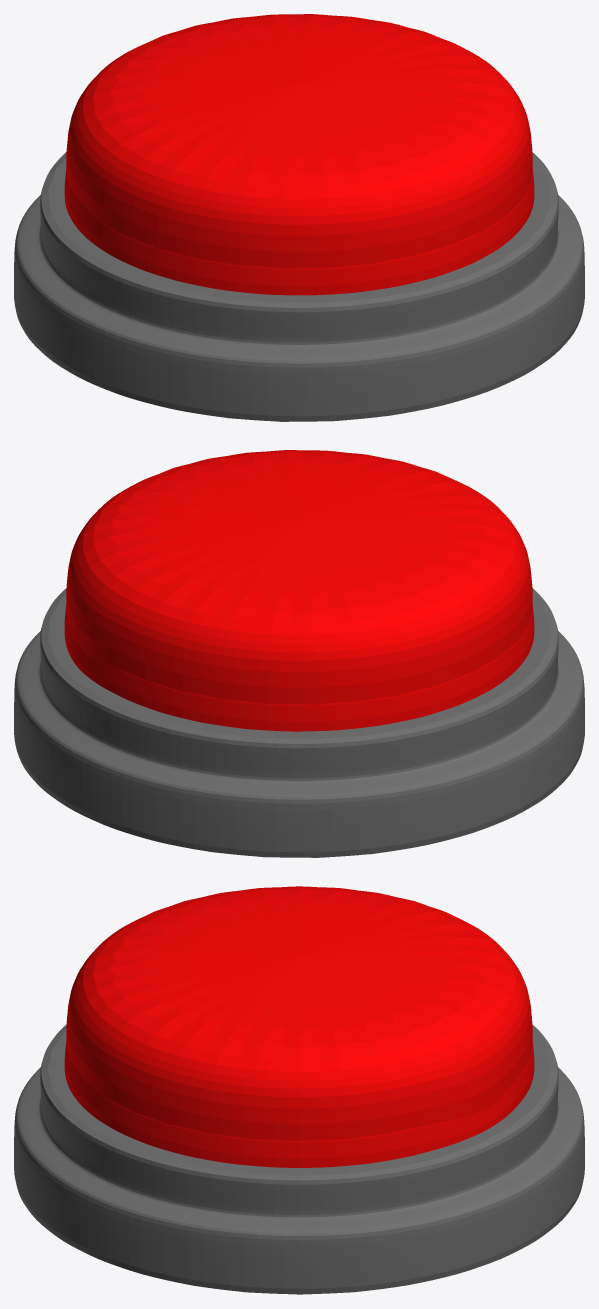
Rendered from BIG RED BUTTON.fbx.
3 views of the same model, one above another, from view 1: azimuth 30°, elevation 25°; view 2: azimuth 150°, elevation 25°; view 3: azimuth 270°, elevation 25° (orthographic).
Parts seen in each view (by area): view 1: Red Button, Support, Cylinder.002; view 2: Red Button, Support, Cylinder.002; view 3: Red Button, Support, Cylinder.002.
Part boxes in pixels (bbox=[...]): Red Button: bbox=[66, 14, 532, 268]; Support: bbox=[14, 152, 584, 421]; Cylinder.002: bbox=[64, 168, 534, 295]; Red Button: bbox=[66, 450, 532, 704]; Support: bbox=[14, 588, 584, 857]; Cylinder.002: bbox=[64, 604, 534, 731]; Red Button: bbox=[66, 886, 532, 1141]; Support: bbox=[14, 1024, 584, 1294]; Cylinder.002: bbox=[64, 1042, 534, 1167].
Bounding box in the file's own units: 199 × 84.99 × 199.
